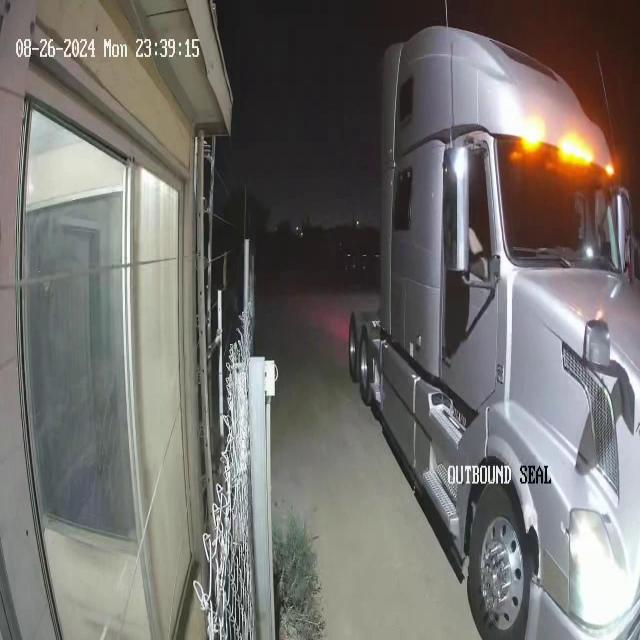TRUCK_IN: (348, 22, 639, 638)
